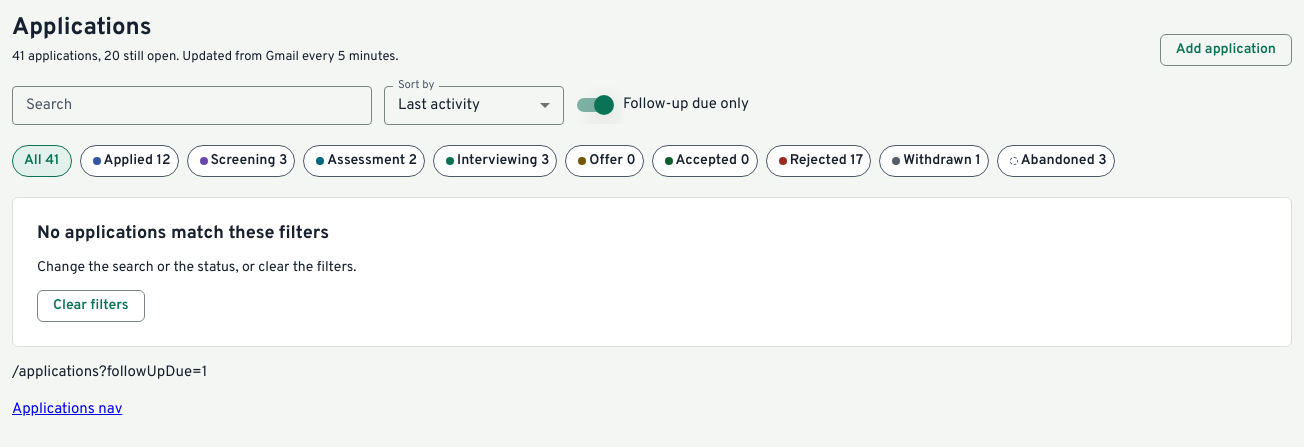
Test case: ApplicationsPage › with filters that match nothing, says so and offers to clear them
Expected: the text "No applications match these filters" is shown, [37,222,329,245]
Click the button "Clear filters" at {"x": 91, "y": 306}, box [37,290,145,322]
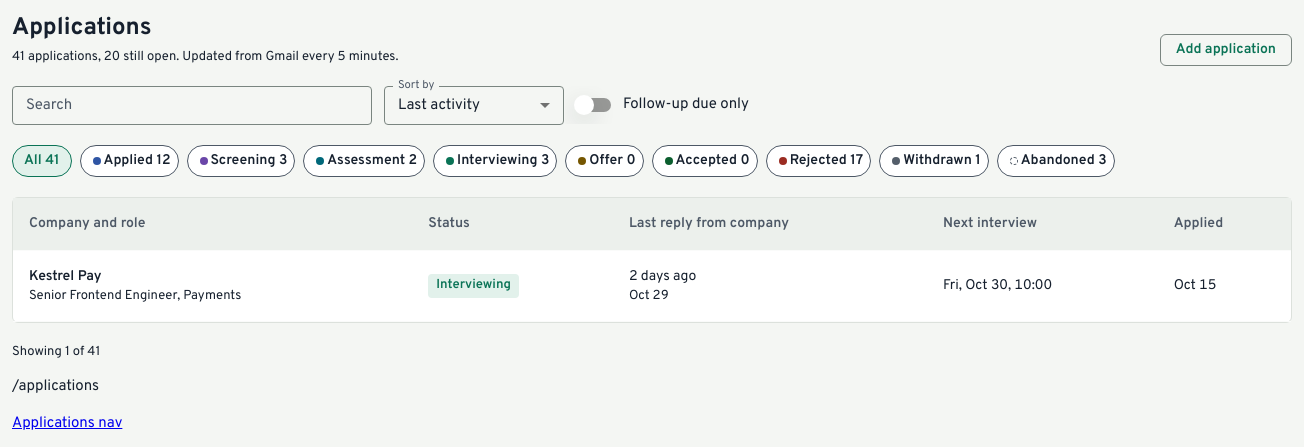
Expected: the link "Kestrel Pay" is shown, [29,268,102,285]
Expected: the text with test id "where" reads "/applications", [12,377,99,396]
Expected: the text with test id "where" no longer shows "followUpDue", [12,377,99,396]
